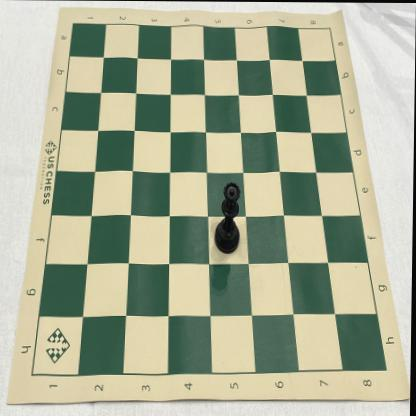black-queen: (214, 182, 242, 254)
